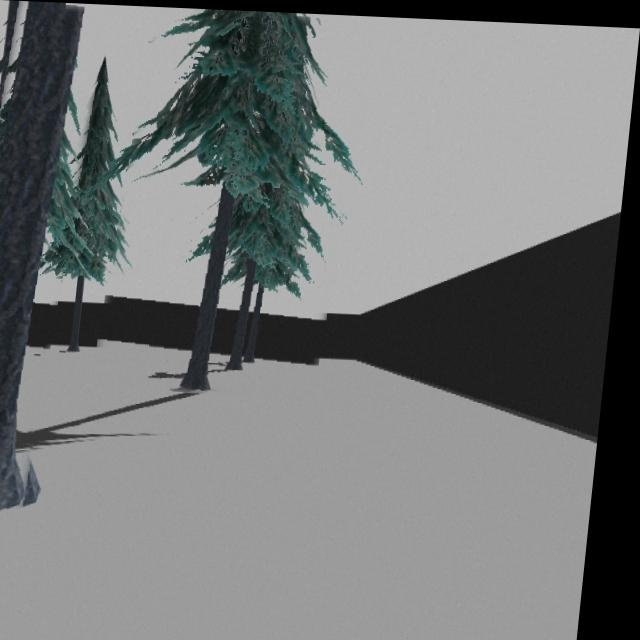tree: (132, 7, 356, 390), (0, 1, 85, 515)
